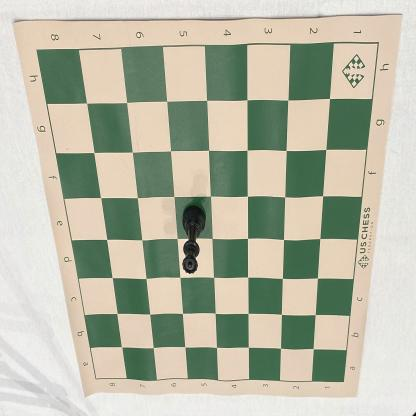black-queen: (182, 204, 206, 274)
